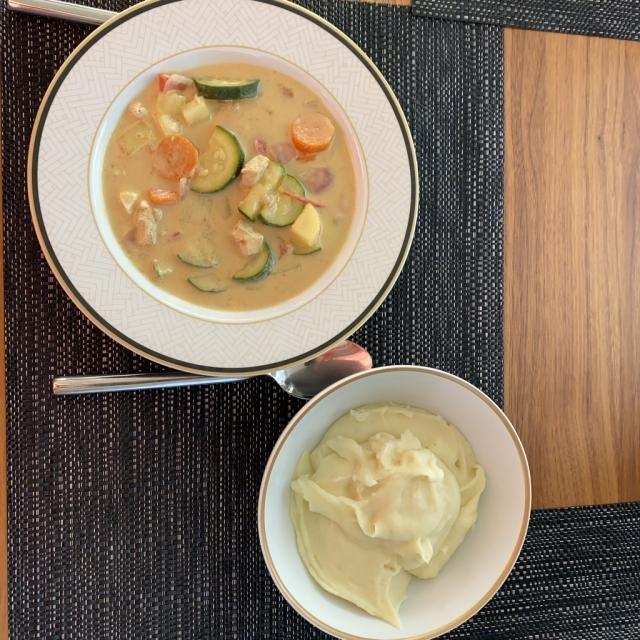mashed-potatoes: (290, 411, 486, 593)
